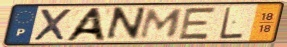A: (61, 7, 108, 42)
E: (175, 6, 219, 41)
L: (218, 6, 245, 41)
M: (137, 8, 187, 40)
N: (102, 6, 149, 43)
X: (31, 8, 74, 42)
